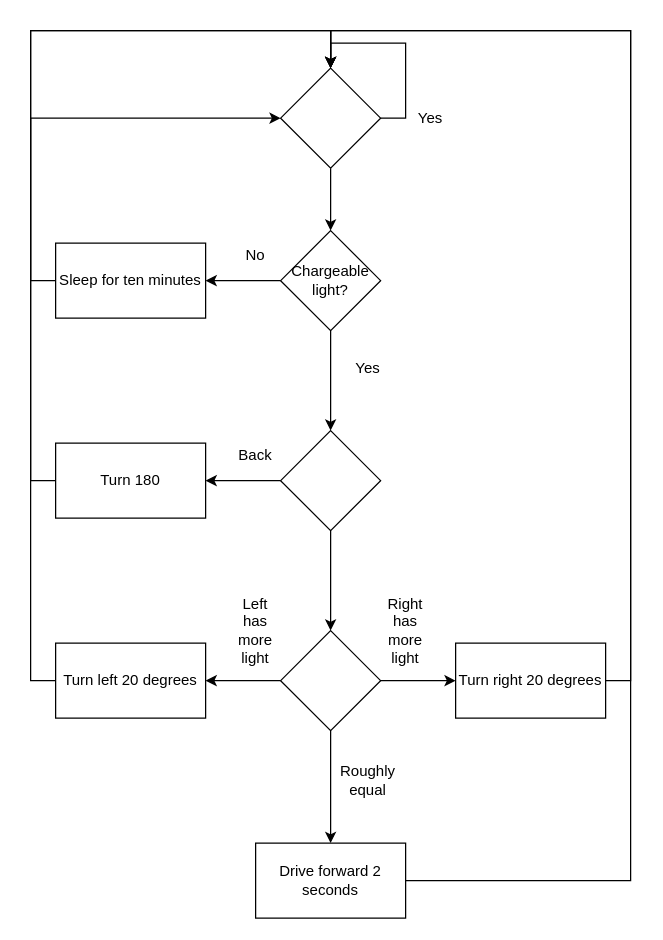
The diagram is 663 pixels wide and 940 high, and some of its shapes have lost their labels. The shapes that lost their labels are listed below. From the top down, each one's centre as x and y in pixels, then its label:
At point 330,117: "Charging?".
At point 330,480: "Front/back check".
At point 330,680: "Left/Right check".
